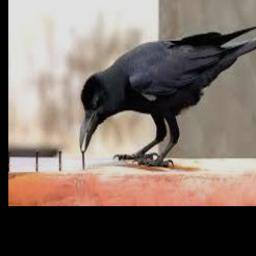Crow: (80, 24, 256, 168)
